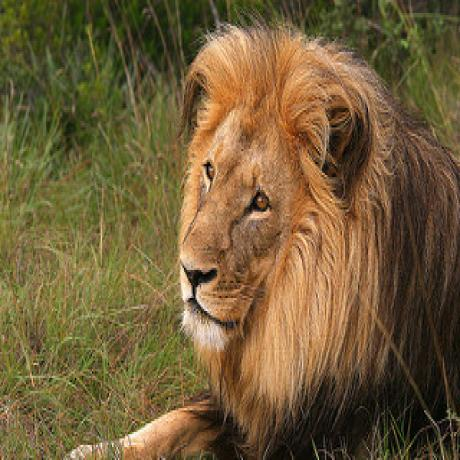Lion: (85, 12, 460, 460)
